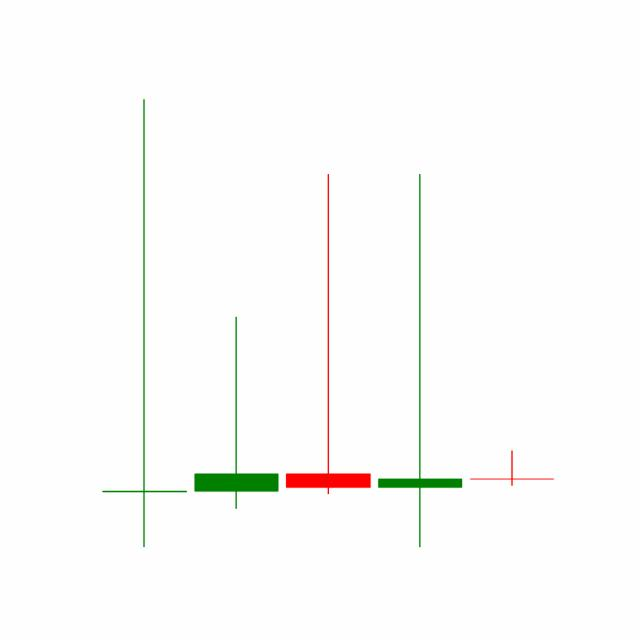Spinning Top: (373, 169, 467, 551)
